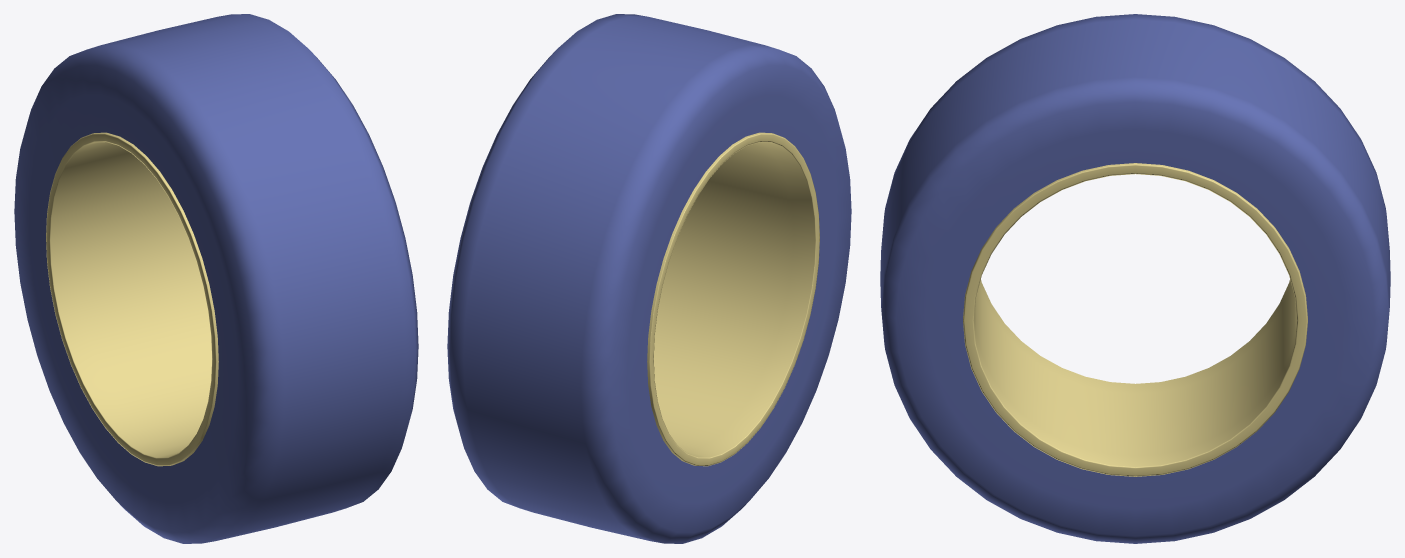
File: tape_roll_lo.fbx
3 views of the same model, side by side, from view 1: azimuth 30°, elevation 25°; view 2: azimuth 150°, elevation 25°; view 3: azimuth 270°, elevation 25° (orthographic).
Visible parts, largest first — view 1: tape_outer, tape_core; view 2: tape_outer, tape_core; view 3: tape_outer, tape_core.
Part boxes in pixels (x1,y1,x2,y2): tape_outer: [14, 14, 418, 543]; tape_core: [46, 132, 218, 466]; tape_outer: [447, 14, 851, 543]; tape_core: [647, 132, 819, 466]; tape_outer: [880, 14, 1390, 543]; tape_core: [963, 163, 1307, 476].
Bounding box in the file's own units: 7.31 × 18.88 × 18.88.
